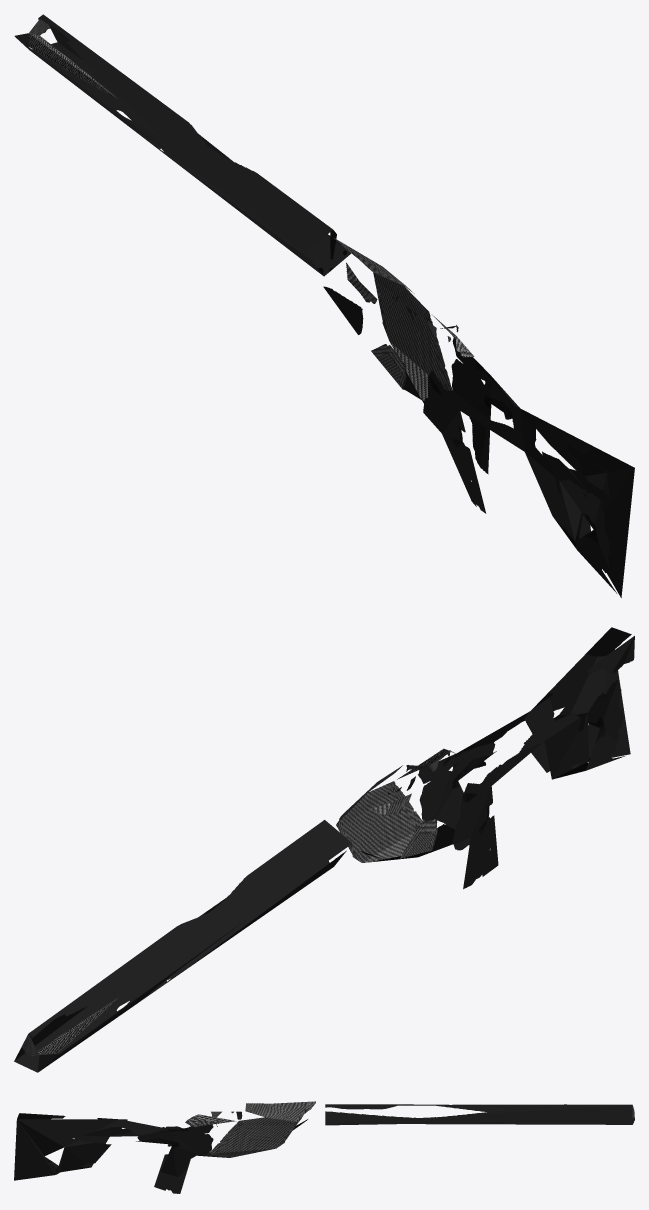
File: gun_low.fbx
3 renders of one model, top to bottom at view 1: azimuth 30°, elevation 25°; view 2: azimuth 150°, elevation 25°; view 3: azimuth 270°, elevation 25°, orthographic. The views are drawn at different scales.
Parts seen in each view (by area): view 1: BarrelFIXEDMED; view 2: BarrelFIXEDMED; view 3: BarrelFIXEDMED.
Boxes of the visible parts, x1,y1,x2,y2 form: BarrelFIXEDMED: [14, 14, 634, 597]; BarrelFIXEDMED: [14, 627, 634, 1072]; BarrelFIXEDMED: [14, 1101, 634, 1193].
Size of the model in its own units: 23.1 by 76.23 by 467.
1 material, 1 textured.
